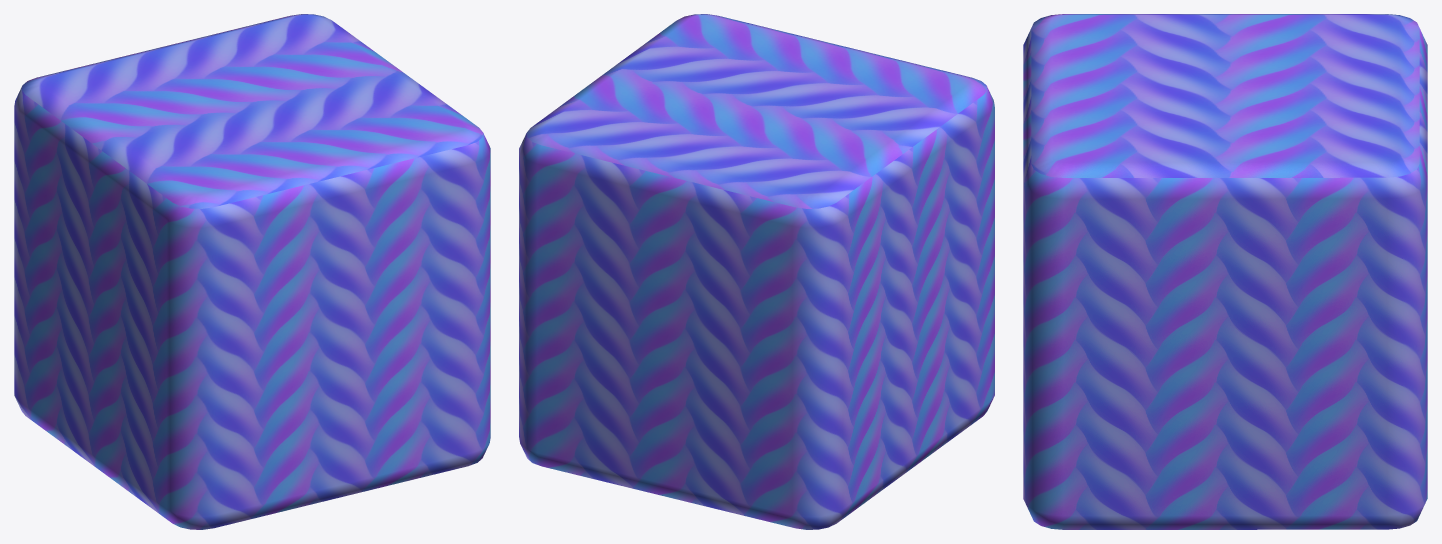
The model's file is Box4noline.fbx.
3 views of the same model, side by side, from view 1: azimuth 30°, elevation 25°; view 2: azimuth 150°, elevation 25°; view 3: azimuth 270°, elevation 25° (orthographic). The views are drawn at different scales.
Visible parts, largest first — view 1: Box4_noline; view 2: Box4_noline; view 3: Box4_noline.
Part boxes in pixels (x1,y1,x2,y2): Box4_noline: (14, 14, 490, 529); Box4_noline: (519, 14, 994, 529); Box4_noline: (1023, 14, 1427, 529).
Bounding box in the file's own units: 200 × 200 × 200.
